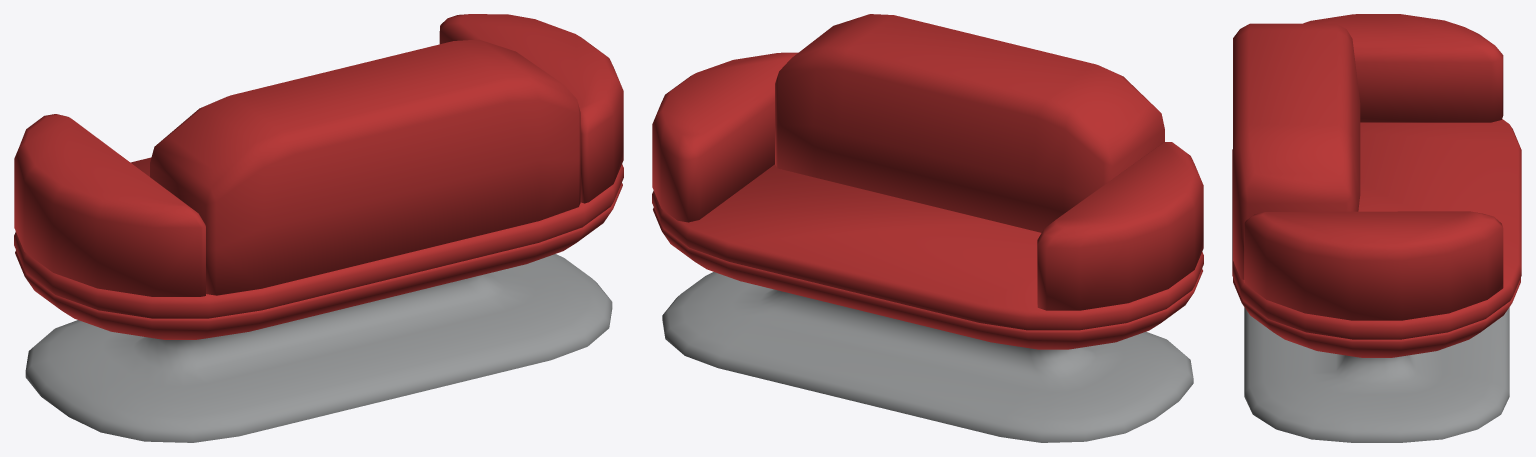
File: Couch_Red.fbx
The picture shows the model from 3 angles, left to right: view 1: azimuth 30°, elevation 25°; view 2: azimuth 150°, elevation 25°; view 3: azimuth 270°, elevation 25°; orthographic projection. The views are drawn at different scales.
Visible parts, largest first — view 1: Couch; view 2: Couch; view 3: Couch.
Boxes of the visible parts, left/top/right/bottom form: Couch: left=14, top=14, right=623, bottom=442; Couch: left=652, top=14, right=1203, bottom=442; Couch: left=1232, top=14, right=1521, bottom=442.
Size of the model in its own units: 160 by 79.34 by 82.11.
